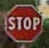stop: (3, 3, 43, 42)
